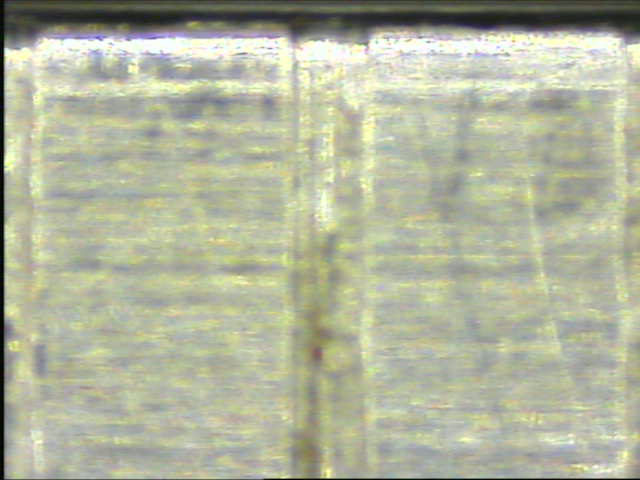line: (286, 21, 375, 478)
